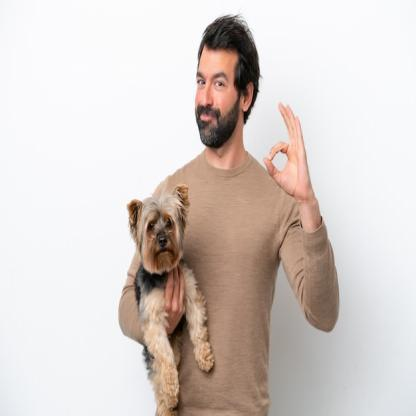ok: (263, 99, 314, 205)
